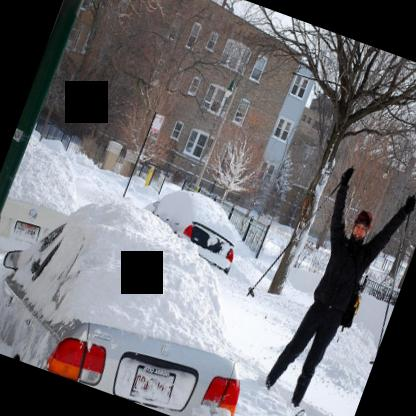backpack: (339, 279, 361, 327)
